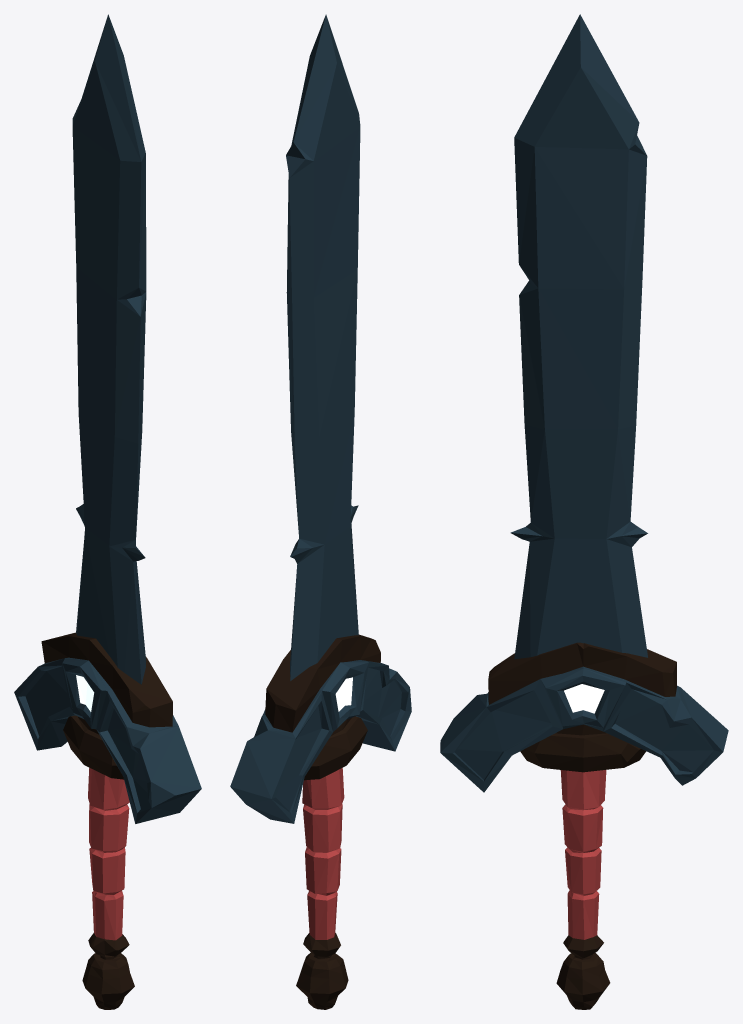
The model's file is SFFA_Weapon_Longsword_Gold_003.fbx.
The picture shows the model from 3 angles, left to right: view 1: azimuth 30°, elevation 25°; view 2: azimuth 150°, elevation 25°; view 3: azimuth 270°, elevation 25°; orthographic projection.
Parts seen in each view (by area): view 1: SFFA_Weapon_Longsword_Gold_003; view 2: SFFA_Weapon_Longsword_Gold_003; view 3: SFFA_Weapon_Longsword_Gold_003.
Boxes of the visible parts, x1,y1,x2,y2 form: SFFA_Weapon_Longsword_Gold_003: [14, 14, 201, 1009]; SFFA_Weapon_Longsword_Gold_003: [230, 14, 411, 1009]; SFFA_Weapon_Longsword_Gold_003: [440, 14, 728, 1009].
Size of the model in its own units: 9.05 by 147 by 38.78.
